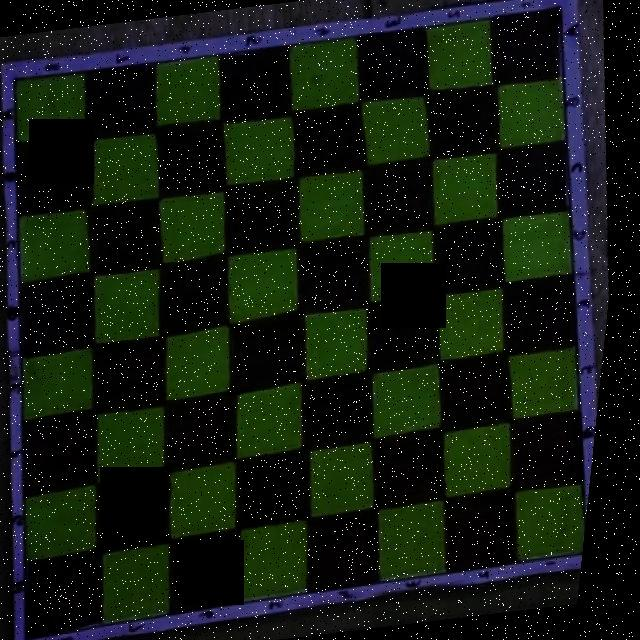chess-table-corners: (590, 547, 596, 558), (554, 2, 562, 10), (12, 76, 20, 83), (35, 635, 44, 640)
